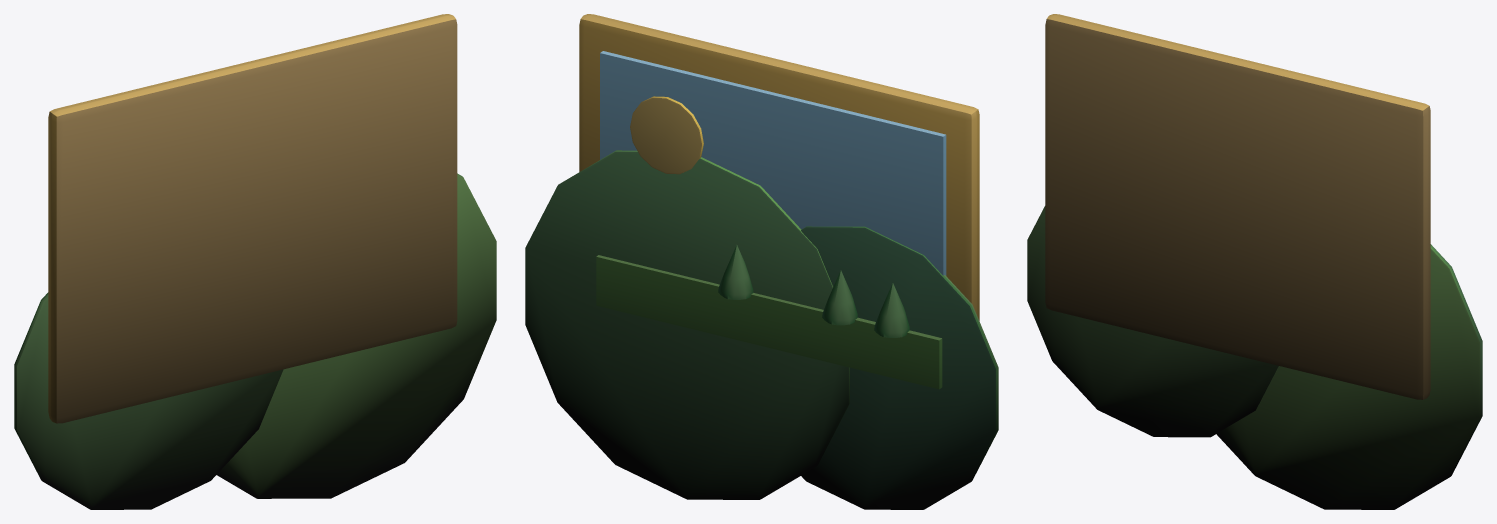
File: Painting.fbx
3 renders of one model, left to right at view 1: azimuth 30°, elevation 25°; view 2: azimuth 150°, elevation 25°; view 3: azimuth 330°, elevation 25°, orthographic. The views are drawn at different scales.
Visible parts, largest first — view 1: SM_Prop_Painting; view 2: SM_Prop_Painting; view 3: SM_Prop_Painting.
Boxes of the visible parts, bbox=[...] form: SM_Prop_Painting: bbox=[14, 14, 496, 509]; SM_Prop_Painting: bbox=[525, 14, 998, 509]; SM_Prop_Painting: bbox=[1027, 14, 1482, 509].
Bounding box in the file's own units: 4.53 × 4.15 × 0.4257.
